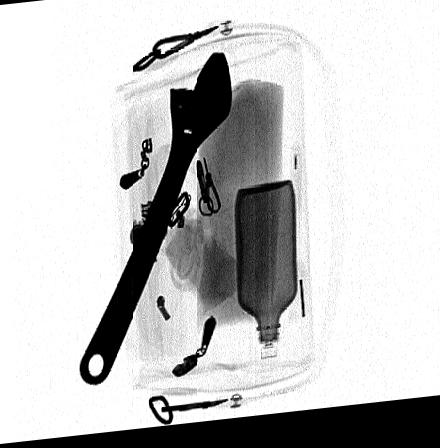Wrench: (78, 54, 234, 389)
